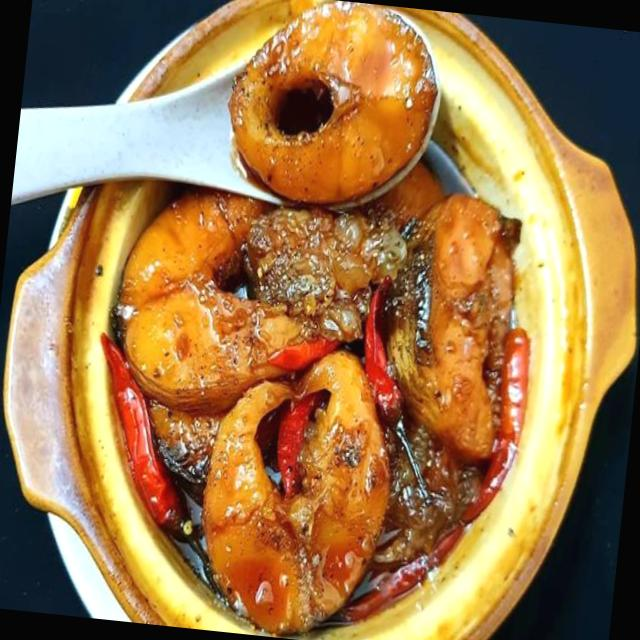ca kho: (113, 162, 521, 631), (229, 1, 438, 207)
